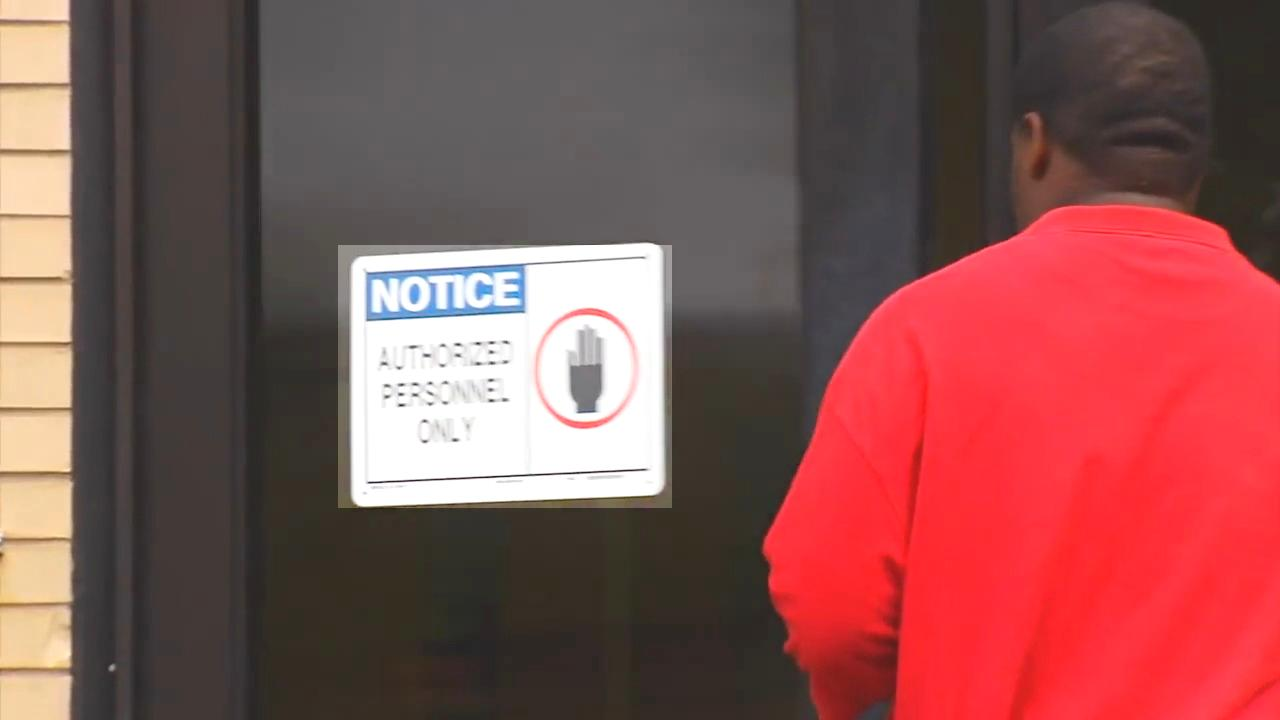safety_signage: (339, 246, 673, 509)
